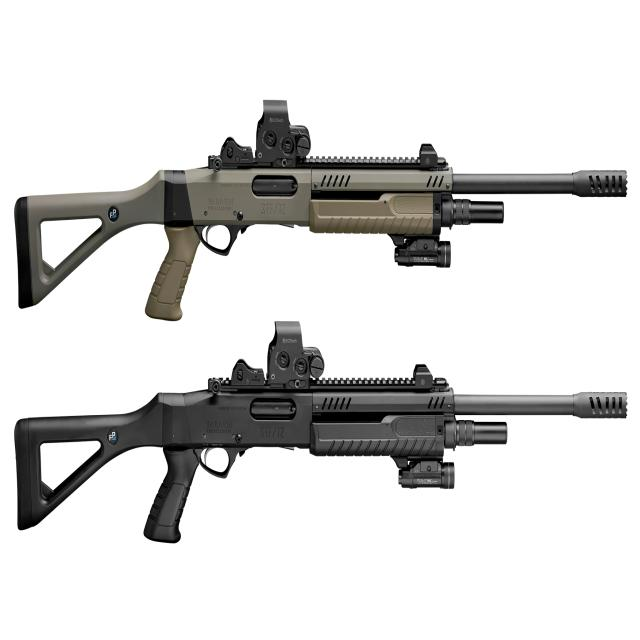ShotGun: (13, 322, 630, 546), (13, 102, 629, 322)
